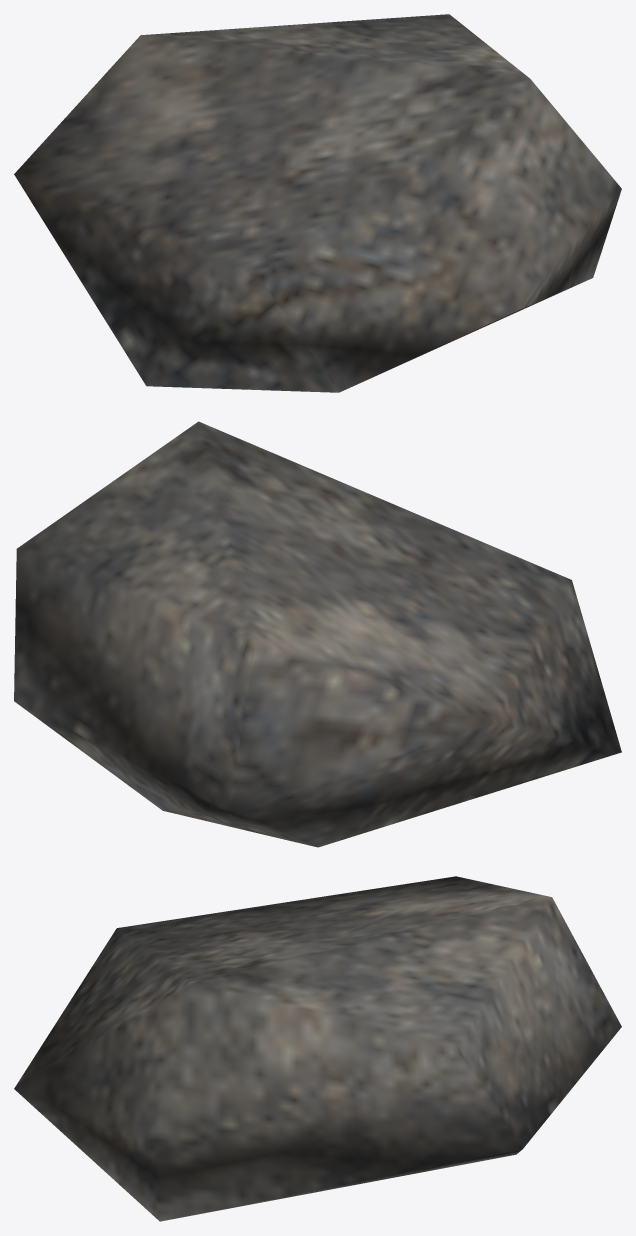
File: RockSm1_5_LOD1.fbx
3 renders of one model, top to bottom at view 1: azimuth 30°, elevation 25°; view 2: azimuth 150°, elevation 25°; view 3: azimuth 270°, elevation 25°, orthographic. The views are drawn at different scales.
Parts seen in each view (by area): view 1: polySurface218; view 2: polySurface218; view 3: polySurface218.
Boxes of the visible parts, x1,y1,x2,y2 form: polySurface218: [14, 14, 621, 392]; polySurface218: [14, 421, 621, 847]; polySurface218: [14, 876, 621, 1221].
Bounding box in the file's own units: 34.14 × 15.18 × 36.06.
